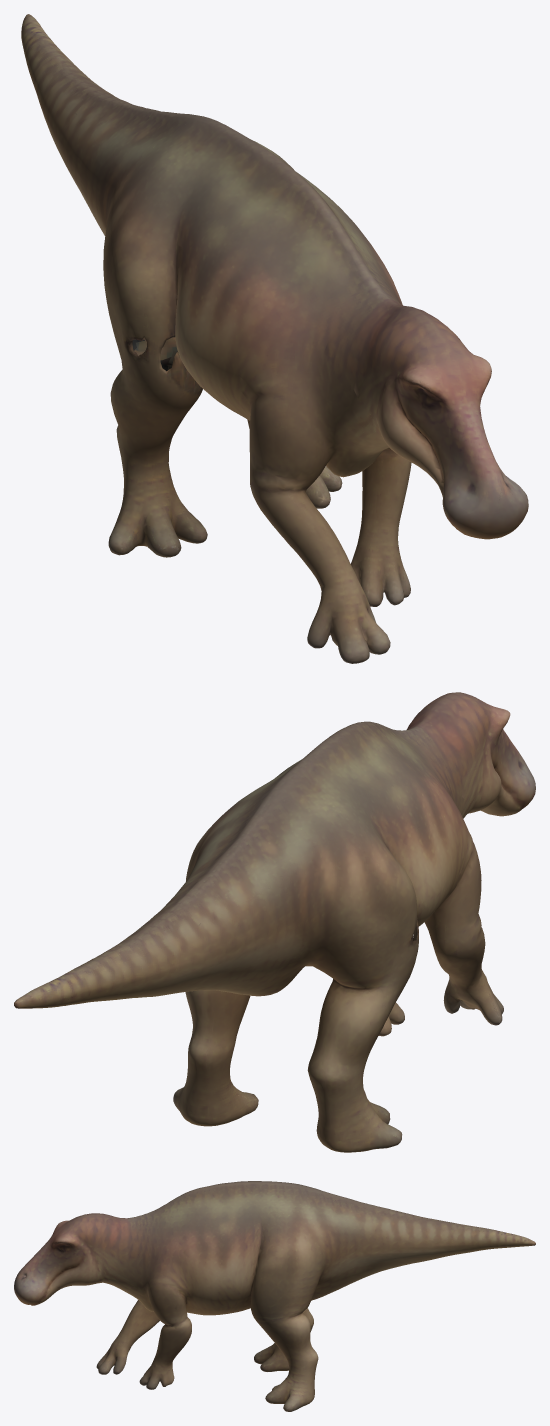
3 renders of one model, top to bottom at view 1: azimuth 30°, elevation 25°; view 2: azimuth 150°, elevation 25°; view 3: azimuth 270°, elevation 25°, orthographic. The views are drawn at different scales.
Parts seen in each view (by area): view 1: world; view 2: world; view 3: world.
Boxes of the visible parts, x1,y1,x2,y2 form: world: (21, 14, 528, 663); world: (14, 692, 535, 1152); world: (14, 1181, 535, 1411).
Size of the model in its own units: 3.22 by 5.11 by 12.
Materials: 1 (1 with a texture image).
